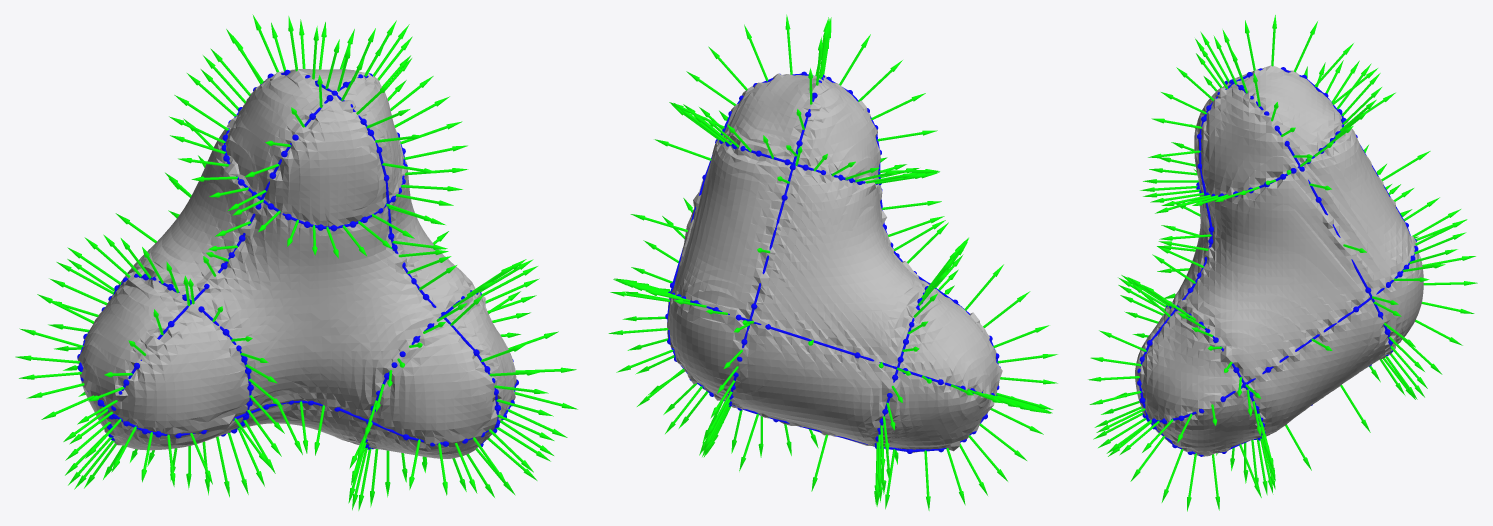
The model's file is flowrep_trebol.gltf.
3 views of the same model, side by side, from view 1: azimuth 30°, elevation 25°; view 2: azimuth 150°, elevation 25°; view 3: azimuth 270°, elevation 25° (orthographic). The views are drawn at different scales.
Size of the model in its own units: 0.8297 by 0.8036 by 0.6561.
